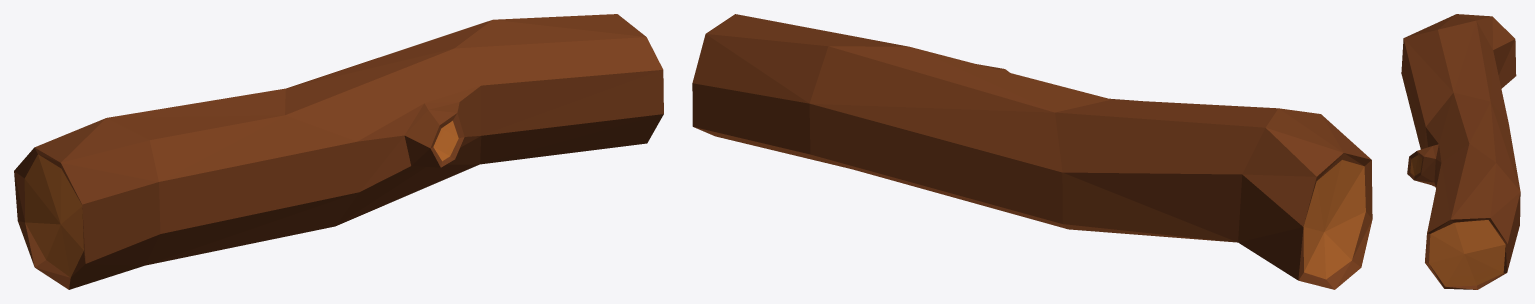
File: log_low-poly_3d_model.glb
3 views of the same model, side by side, from view 1: azimuth 30°, elevation 25°; view 2: azimuth 150°, elevation 25°; view 3: azimuth 270°, elevation 25° (orthographic). The views are drawn at different scales.
Parts seen in each view (by area): view 1: log00; view 2: log00; view 3: log00.
Boxes of the visible parts, x1,y1,x2,y2 form: log00: [14, 14, 663, 289]; log00: [692, 14, 1372, 289]; log00: [1401, 14, 1520, 289].
Size of the model in its own units: 405 by 92.07 by 102.
Materials: 1 (1 with a texture image).
